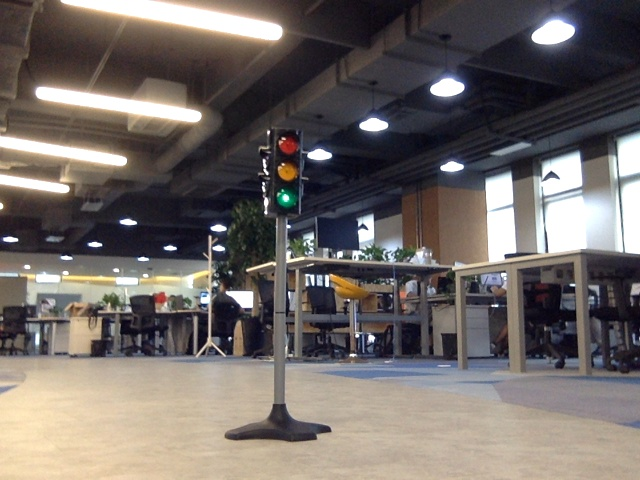green: (273, 135, 299, 212)
